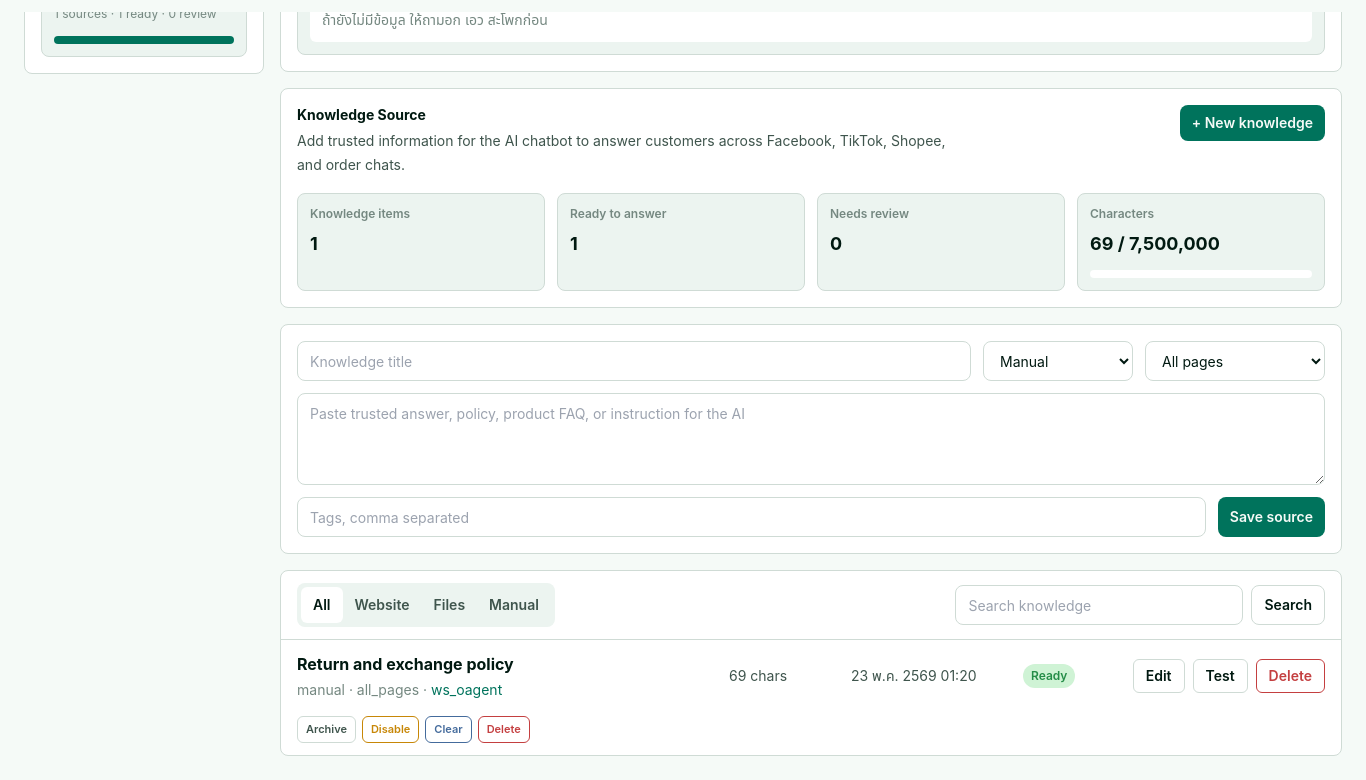
Test: AiKnowledgeSourcePage › runs a source test from the knowledge list
(page scrolled)
Expected: the text "Return and exchange policy" is shown, left=297, top=654, right=514, bottom=674
Expected: the text "69 / 7,500,000" is shown, left=1090, top=233, right=1220, bottom=254
Click the button "Test".
click(1220, 676)  # box left=1192, top=659, right=1248, bottom=693
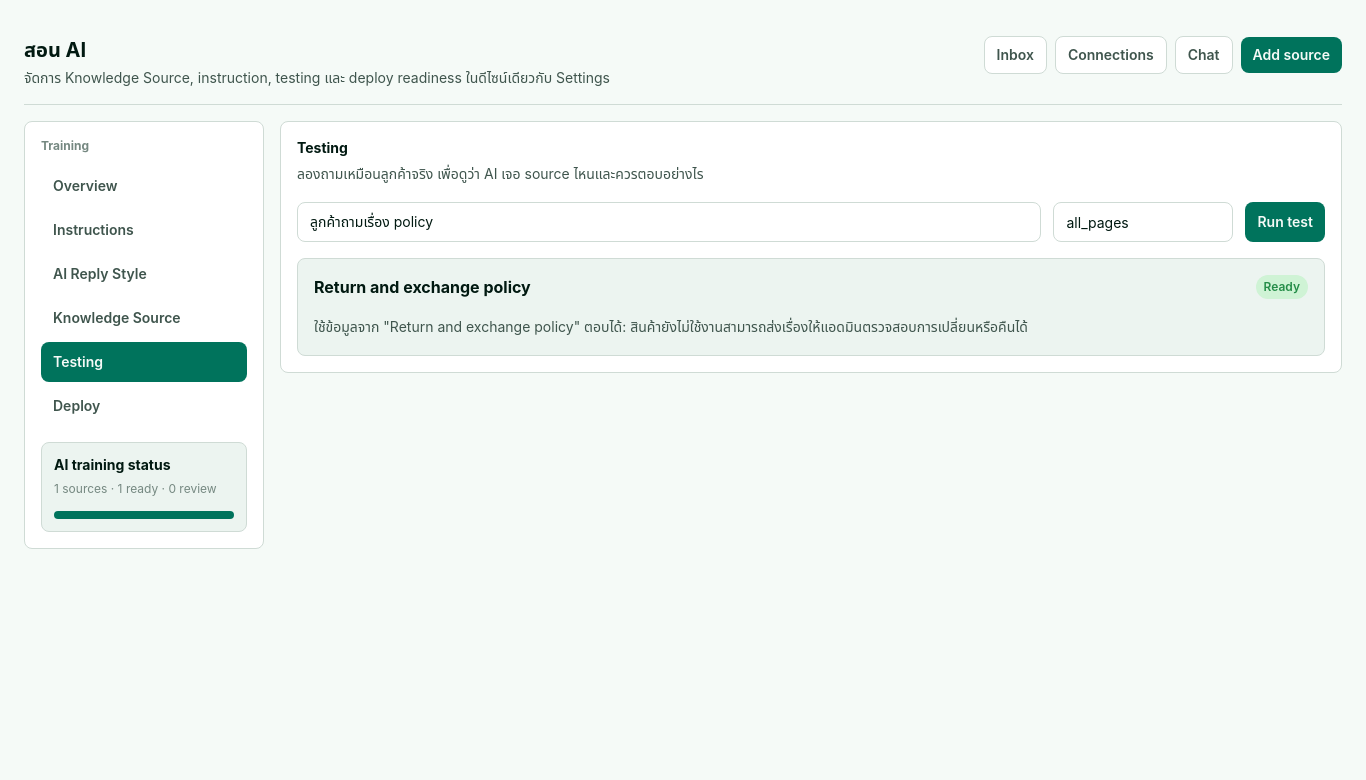
Result: the text "ใช้ข้อมูลจาก \"Return and exchange policy\"" is shown at left=314, top=318, right=1028, bottom=335
